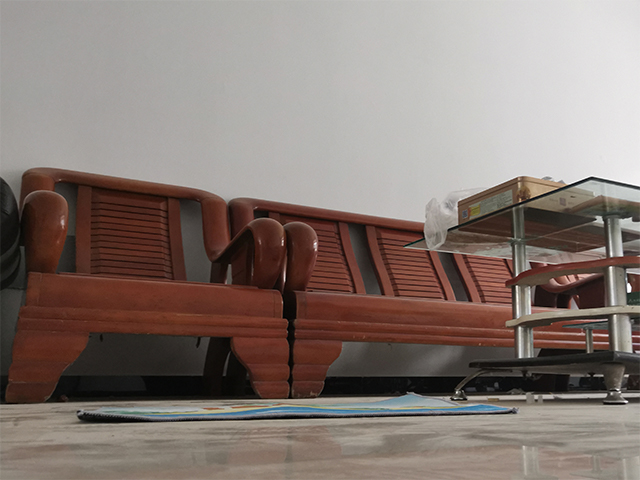carpet: (73, 390, 519, 423)
sofa: (16, 167, 278, 405), (237, 204, 479, 398)
table: (401, 174, 640, 406)
